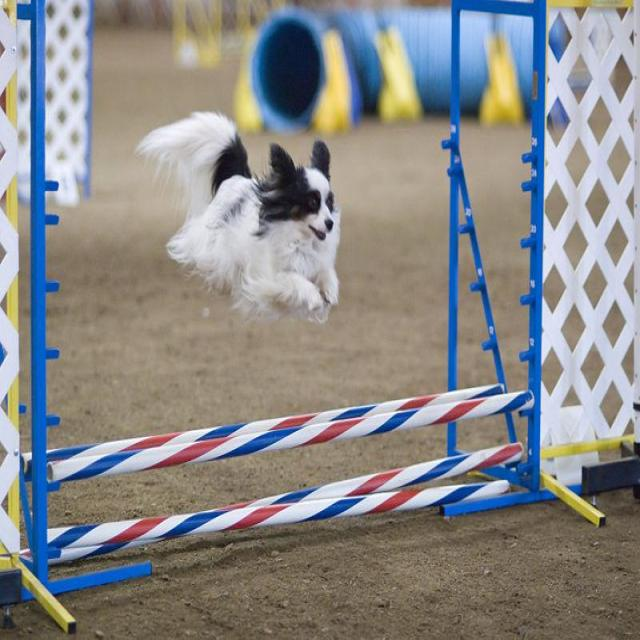papillon: (131, 108, 345, 330)
